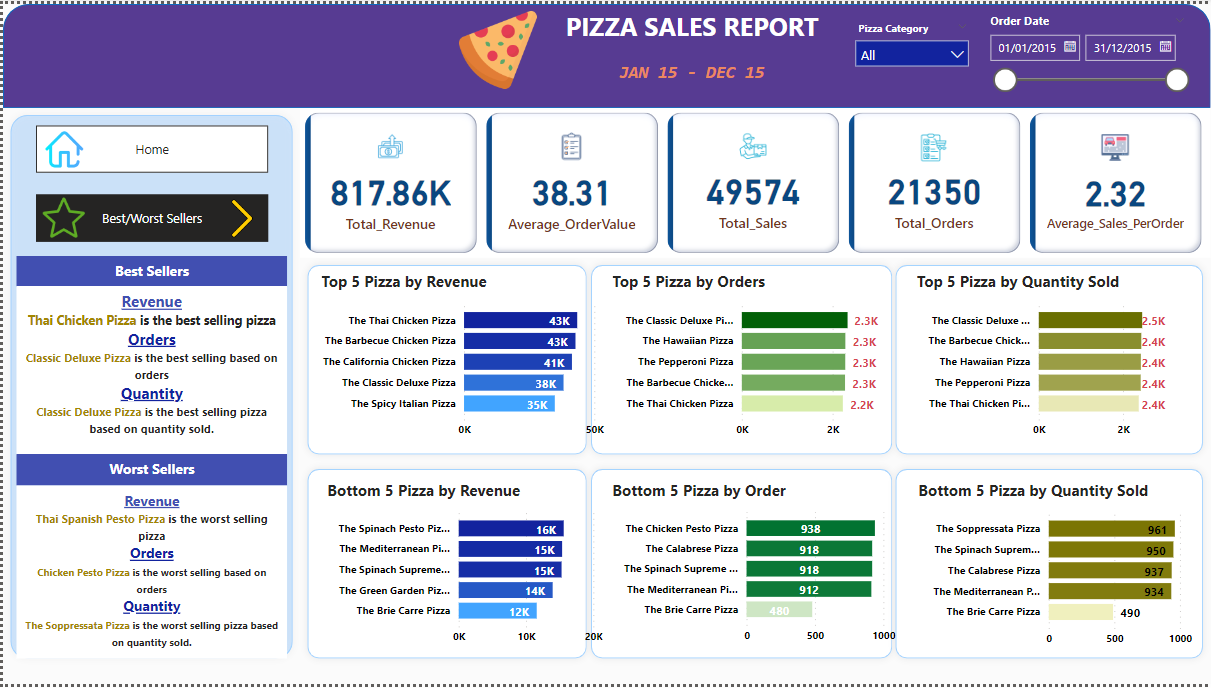

The dashboard page shown, as its layout file describes it:
{"tool":"powerbi","page":{"name":"Best/Worst Sellers","canvas":[1280,720],"ordinal":1},"visuals":[{"type":"cardVisual","fields":{"Data":["Measure.Total_Revenue","Measure.Average_OrderValue","Measure.Total_Sales","Measure.Total_Orders","Measure.Average_Sales_PerOrder"]},"box":[315.3,110.2,964.4,159.3],"z":0},{"type":"shape","box":[0,0,1279.7,110.2],"z":1000},{"type":"textbox","box":[580,0,300,56.7],"z":2000},{"type":"textbox","box":[591.7,55,276.7,53.3],"z":3000},{"type":"image","box":[458.1,0,133.2,97],"z":4000},{"type":"shape","box":[315,268.3,311.7,216.7],"z":5000},{"type":"slicer","title":"% of Sales by Pizza Category","fields":{"Values":["pizza_sales.pizza_category"]},"box":[893.3,13.3,140,81.7],"z":6000},{"type":"shape","box":[0,110,315,591.7],"z":7000},{"type":"textbox","box":[15,266.7,286.7,31.7],"z":8000},{"type":"textbox","box":[15,298.3,286.7,178.3],"z":9000},{"type":"textbox","box":[15,476.7,286.7,33.3],"z":10000},{"type":"textbox","box":[15,510,286.7,183.3],"z":11000},{"type":"slicer","title":"% of Sales by Pizza Category","fields":{"Values":["pizza_sales.order_date"]},"box":[1033.3,5,231.7,105],"z":12000},{"type":"shape","box":[938.3,268.3,341.7,216.7],"z":13000},{"type":"shape","box":[615,268.3,335,216.7],"z":14000},{"type":"shape","box":[315,485,311.7,216.7],"z":15000},{"type":"shape","box":[615,485,335,216.7],"z":16000},{"type":"shape","box":[938.3,485,341.7,216.7],"z":17000},{"type":"barChart","title":"Top 5 Pizza by Revenue","fields":{"Category":["pizza_sales.pizza_name"],"Y":["Measure.Total_Revenue"]},"box":[331.7,283.3,336.7,185],"z":18000},{"type":"barChart","title":"Bottom 5 Pizza by Revenue","fields":{"Category":["pizza_sales.pizza_name"],"Y":["Measure.Total_Revenue"]},"box":[338.3,503.3,301.7,183.3],"z":19000},{"type":"barChart","title":"Top 5 Pizza by Orders","fields":{"Category":["pizza_sales.pizza_name"],"Y":["Measure.Total_Orders"]},"box":[640,283.3,298.3,185],"z":20000},{"type":"barChart","title":"Top 5 Pizza by Quantity Sold","fields":{"Category":["pizza_sales.pizza_name"],"Y":["Measure.Total_Sales"]},"box":[963.3,283.3,280,185],"z":21000},{"type":"barChart","title":"Bottom 5 Pizza by Order","fields":{"Category":["pizza_sales.pizza_name"],"Y":["Measure.Total_Orders"]},"box":[640,503.3,310,181.7],"z":22000},{"type":"barChart","title":"Bottom 5 Pizza by Quantity Sold","fields":{"Category":["pizza_sales.pizza_name"],"Y":["Measure.Total_Sales"]},"box":[965,503.3,300,185],"z":23000},{"type":"pageNavigator","box":[35,128.3,246.7,50],"z":24000},{"type":"pageNavigator","box":[35,201.7,246.7,50],"z":25000},{"type":"image","box":[35,128.3,60,50],"z":26000},{"type":"image","box":[223.3,201.7,58.3,50],"z":27000},{"type":"image","box":[25,198.3,78.3,55],"z":28000}]}

Visuals, with their boxes in screenshot pixels (x1, y1, x2, y2), scaled from the page's 1280x720 canvas onto the 1211x688 screenshot:
cardVisual - Measure.Total_Revenue x Measure.Average_OrderValue: [x1=298, y1=105, x2=1210, y2=258]
shape: [x1=0, y1=0, x2=1210, y2=105]
textbox: [x1=549, y1=0, x2=833, y2=54]
textbox: [x1=560, y1=53, x2=822, y2=103]
image: [x1=433, y1=0, x2=559, y2=93]
shape: [x1=298, y1=256, x2=593, y2=463]
"% of Sales by Pizza Category" slicer: [x1=845, y1=13, x2=978, y2=91]
shape: [x1=0, y1=105, x2=298, y2=671]
textbox: [x1=14, y1=255, x2=285, y2=285]
textbox: [x1=14, y1=285, x2=285, y2=455]
textbox: [x1=14, y1=456, x2=285, y2=487]
textbox: [x1=14, y1=487, x2=285, y2=662]
"% of Sales by Pizza Category" slicer: [x1=978, y1=5, x2=1197, y2=105]
shape: [x1=888, y1=256, x2=1210, y2=463]
shape: [x1=582, y1=256, x2=899, y2=463]
shape: [x1=298, y1=463, x2=593, y2=671]
shape: [x1=582, y1=463, x2=899, y2=671]
shape: [x1=888, y1=463, x2=1210, y2=671]
"Top 5 Pizza by Revenue" barChart: [x1=314, y1=271, x2=632, y2=447]
"Bottom 5 Pizza by Revenue" barChart: [x1=320, y1=481, x2=606, y2=656]
"Top 5 Pizza by Orders" barChart: [x1=606, y1=271, x2=888, y2=447]
"Top 5 Pizza by Quantity Sold" barChart: [x1=911, y1=271, x2=1176, y2=447]
"Bottom 5 Pizza by Order" barChart: [x1=606, y1=481, x2=899, y2=655]
"Bottom 5 Pizza by Quantity Sold" barChart: [x1=913, y1=481, x2=1197, y2=658]
pageNavigator: [x1=33, y1=123, x2=267, y2=170]
pageNavigator: [x1=33, y1=193, x2=267, y2=241]
image: [x1=33, y1=123, x2=90, y2=170]
image: [x1=211, y1=193, x2=266, y2=241]
image: [x1=24, y1=189, x2=98, y2=242]
